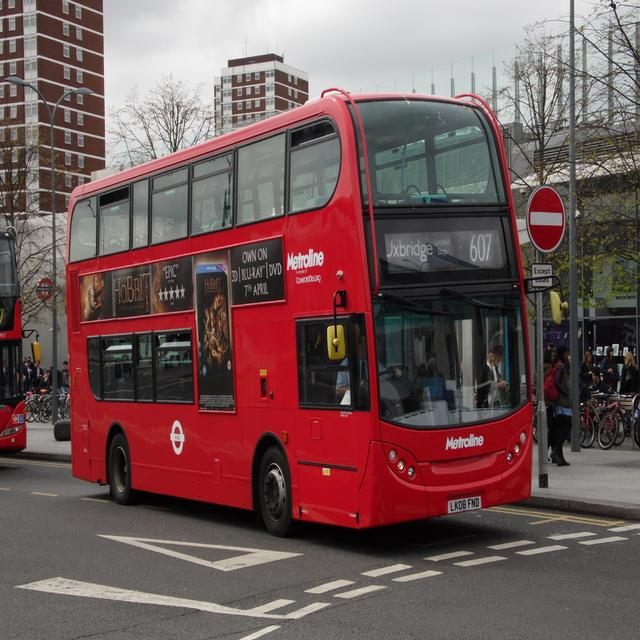Bus: (65, 85, 568, 538), (0, 222, 40, 455)
